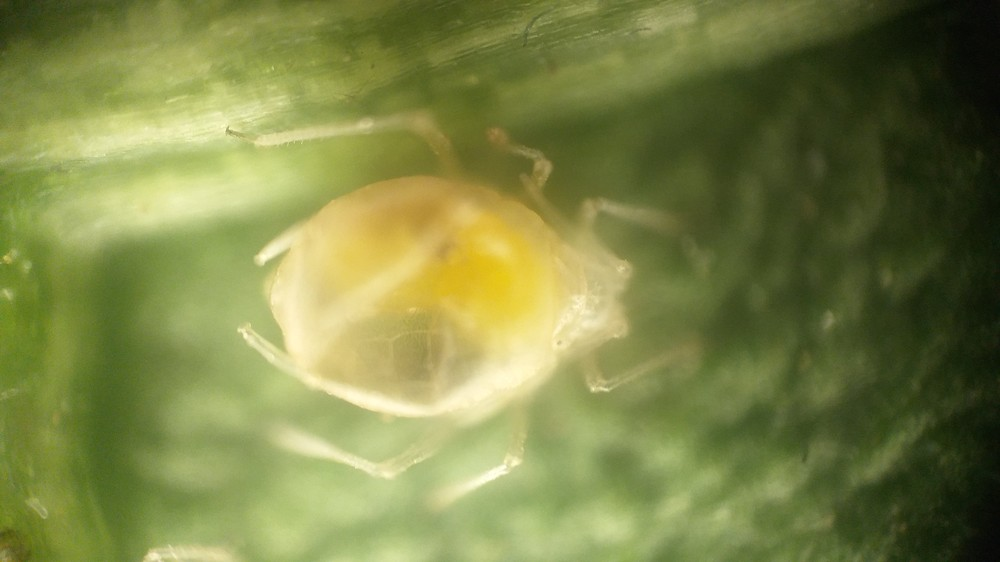Pulgon: (192, 117, 710, 512)
